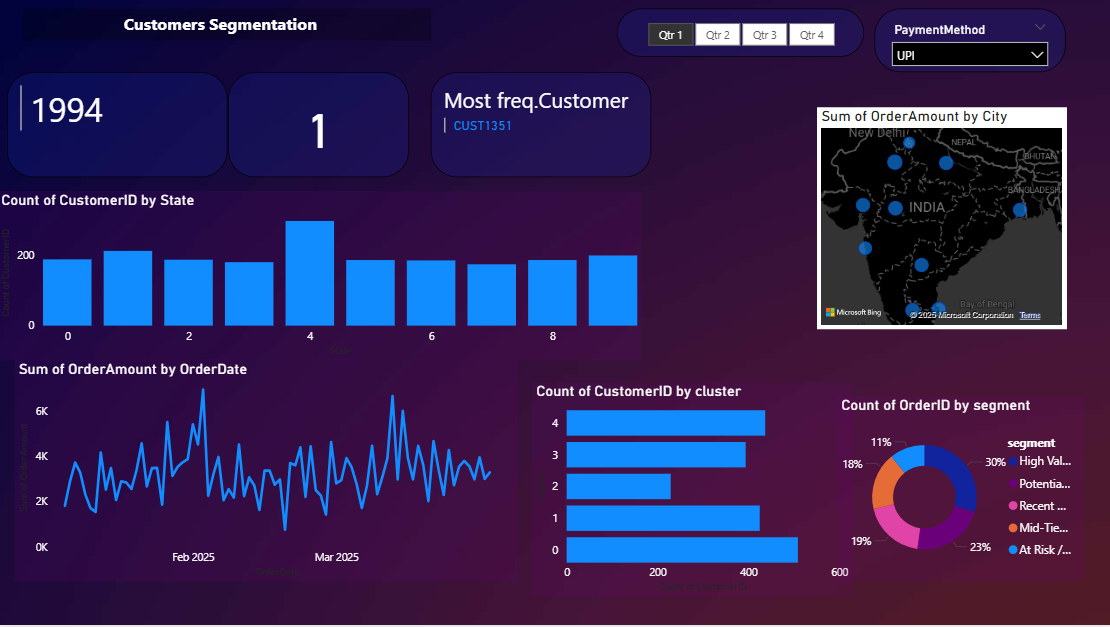

What the dashboard file says about the page in this screenshot:
{"tool":"powerbi","page":{"name":"Page 1","canvas":[1280,720],"ordinal":0},"visuals":[{"type":"map","fields":{"Category":["consumerData.City"],"Size":["Sum(consumerData.OrderAmount)"]},"box":[936.5,126.9,285.1,253.7],"z":0},{"type":"clusteredBarChart","fields":{"Category":["customer_segments.cluster"],"Y":["CountNonNull(customer_segments.CustomerID)"]},"box":[611.5,441.9,366.3,245.2],"z":1000},{"type":"textbox","box":[29.9,14.3,466.1,37.1],"z":2000},{"type":"card","fields":{"Values":["Count(consumerData.PaymentMethod)"]},"box":[263.7,86.9,206.7,119.7],"z":3000},{"type":"multiRowCard","fields":{"Values":["Count(customer_segments.CustomerID)"]},"box":[11.4,86.9,252.3,119.7],"z":4000},{"type":"lineChart","fields":{"Y":["Sum(consumerData.OrderAmount)"],"Category":["consumerData.OrderDate"]},"box":[20,416.2,574.4,253.7],"z":5000},{"type":"donutChart","fields":{"Category":["customer_segments.segment"],"Y":["CountNonNull(consumerData.OrderID)"]},"box":[960.7,457.6,282.2,212.4],"z":6000},{"type":"multiRowCard","fields":{"Values":["customer_segments.CustomerID"]},"box":[496,86.9,252.3,119.7],"z":7000},{"type":"slicer","fields":{"Values":["consumerData.PaymentMethod"]},"box":[1003.5,14.3,218.1,72.7],"z":8000},{"type":"slicer","fields":{"Values":["consumerData.OrderDate.Variation.Date Hierarchy.Quarter"]},"box":[708.4,14.3,282.2,55.6],"z":9000},{"type":"clusteredColumnChart","fields":{"Y":["CountNonNull(customer_segments.CustomerID)"],"Category":["customer_segments.State"]},"box":[0,222.4,736.9,193.9],"z":10000}]}

Visuals, with their boxes in screenshot pixels (x1, y1, x2, y2), scaled from the page's 1280x720 canvas onto the 1110x627 screenshot:
map - consumerData.City x Sum(consumerData.OrderAmount): box=[812, 111, 1059, 331]
clusteredBarChart - customer_segments.cluster x CountNonNull(customer_segments.CustomerID): box=[530, 385, 848, 598]
textbox: box=[26, 12, 430, 45]
card - Count(consumerData.PaymentMethod): box=[229, 76, 408, 180]
multiRowCard - Count(customer_segments.CustomerID): box=[10, 76, 229, 180]
lineChart - Sum(consumerData.OrderAmount) x consumerData.OrderDate: box=[17, 362, 515, 583]
donutChart - customer_segments.segment x CountNonNull(consumerData.OrderID): box=[833, 398, 1078, 583]
multiRowCard - customer_segments.CustomerID: box=[430, 76, 649, 180]
slicer - consumerData.PaymentMethod: box=[870, 12, 1059, 76]
slicer - consumerData.OrderDate.Variation.Date Hierarchy.Quarter: box=[614, 12, 859, 61]
clusteredColumnChart - CountNonNull(customer_segments.CustomerID) x customer_segments.State: box=[0, 194, 639, 363]
